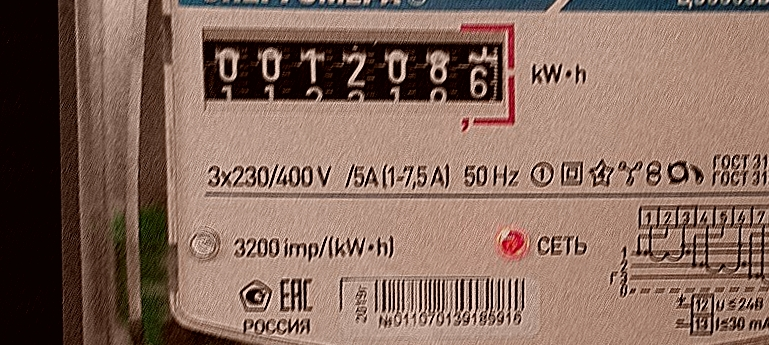0: (212, 45, 238, 84), (256, 46, 280, 84), (381, 48, 405, 85)
1: (298, 47, 319, 86)
2: (340, 51, 367, 89)
6: (463, 64, 487, 101)
8: (422, 49, 447, 86)
screen: (191, 17, 522, 136)
